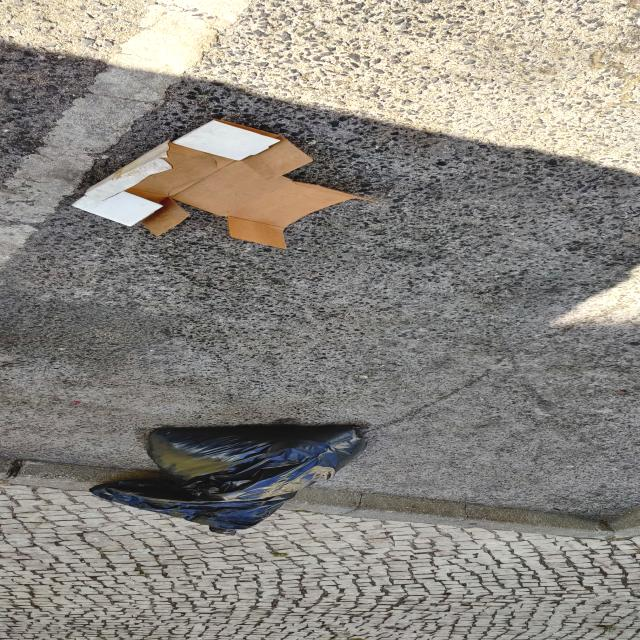Corrugated carton: (71, 119, 379, 249)
Garbage bag: (89, 425, 367, 536)
